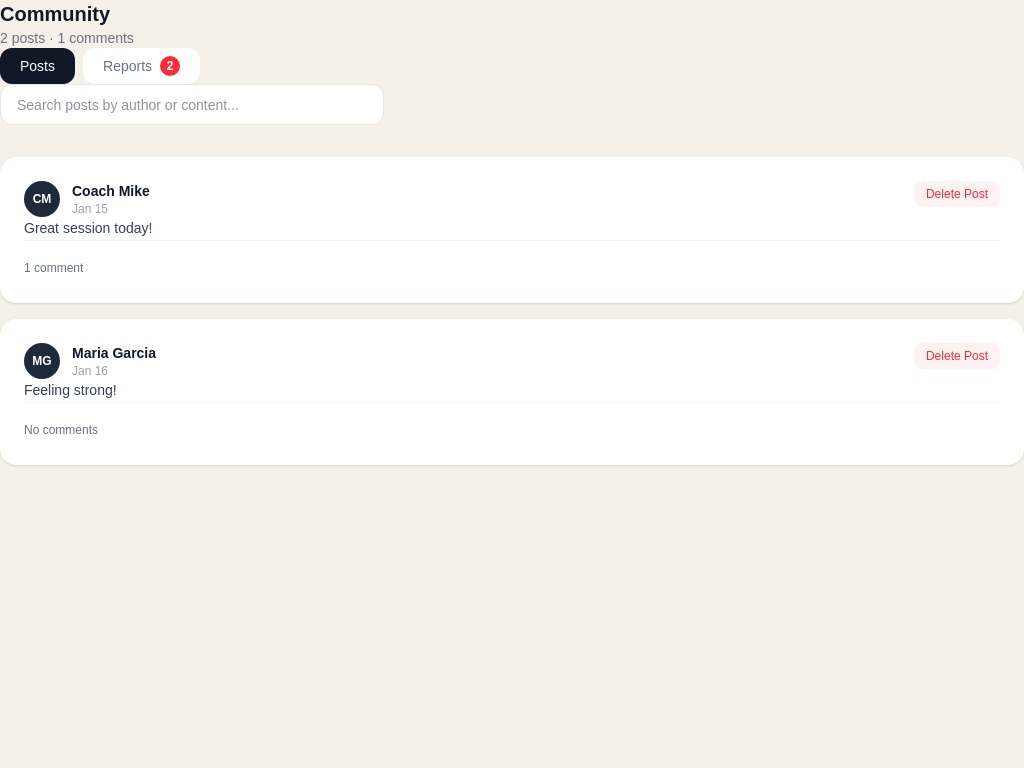
Test: Admin Community Page › shows delete confirmation when Delete Post is clicked
The image size is (1024, 768).
Expected: the text "Coach Mike" is shown, [72,181,150,201]
Click the button "Delete Post" in the row of "Coach Mike". click: (957, 194)
box: [914,181,1000,207]
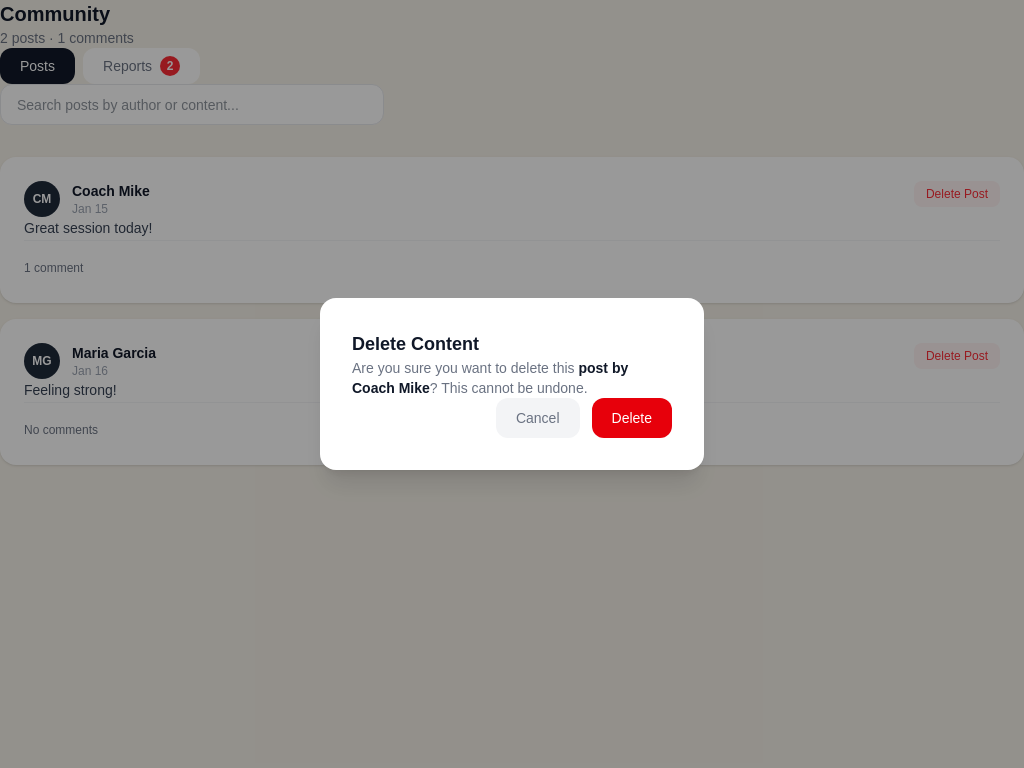
Expected: the heading "Delete Content" is shown, [352,334,479,354]
